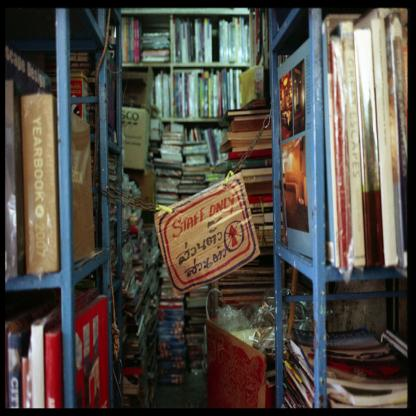book: (0, 0, 410, 415), (7, 84, 55, 290)
